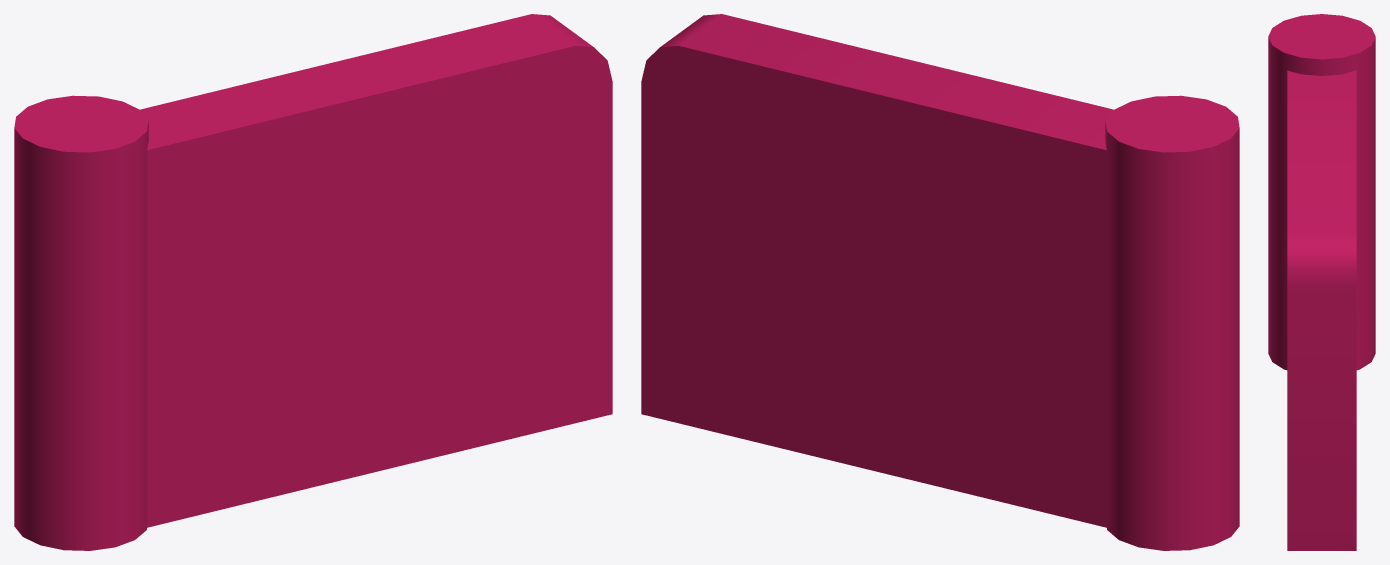
Rendered from door_pink.fbx.
The picture shows the model from 3 angles, left to right: view 1: azimuth 30°, elevation 25°; view 2: azimuth 150°, elevation 25°; view 3: azimuth 270°, elevation 25°; orthographic projection. The views are drawn at different scales.
Parts seen in each view (by area): view 1: door_pink.002, door_pink; view 2: door_pink.002, door_pink; view 3: door_pink.002, door_pink.
Boxes of the visible parts, box(x1,y1,x2,y2) form: door_pink.002: box(140, 14, 612, 527); door_pink: box(14, 95, 148, 550); door_pink.002: box(641, 14, 1113, 527); door_pink: box(1105, 95, 1239, 550); door_pink.002: box(1287, 70, 1356, 550); door_pink: box(1268, 14, 1375, 370).
Size of the model in its own units: 0.8211 by 0.5504 by 0.1695.
